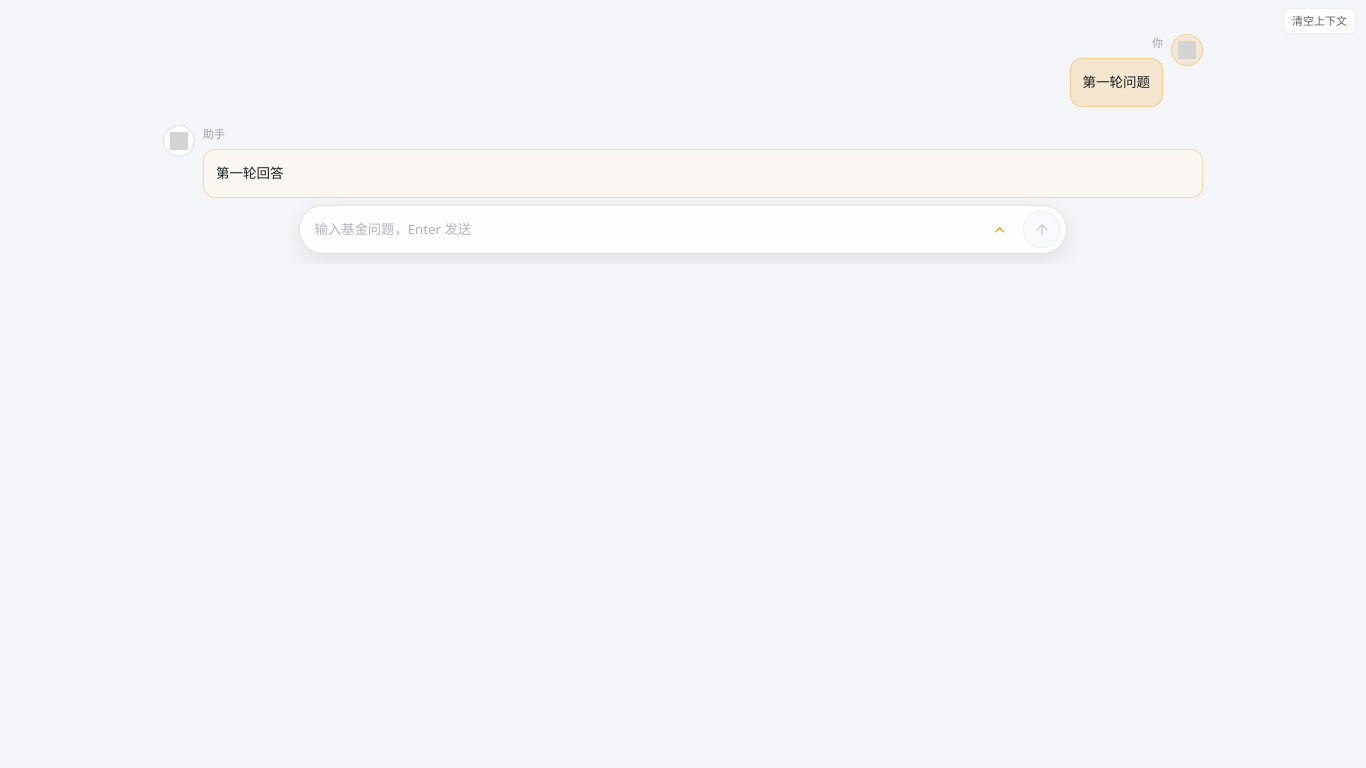
Test case: Investment assistant chat › clears persisted investment chat context from the message area
Click the button "清空上下文": (1320, 21) x1=1283 y1=8 x2=1356 y2=34
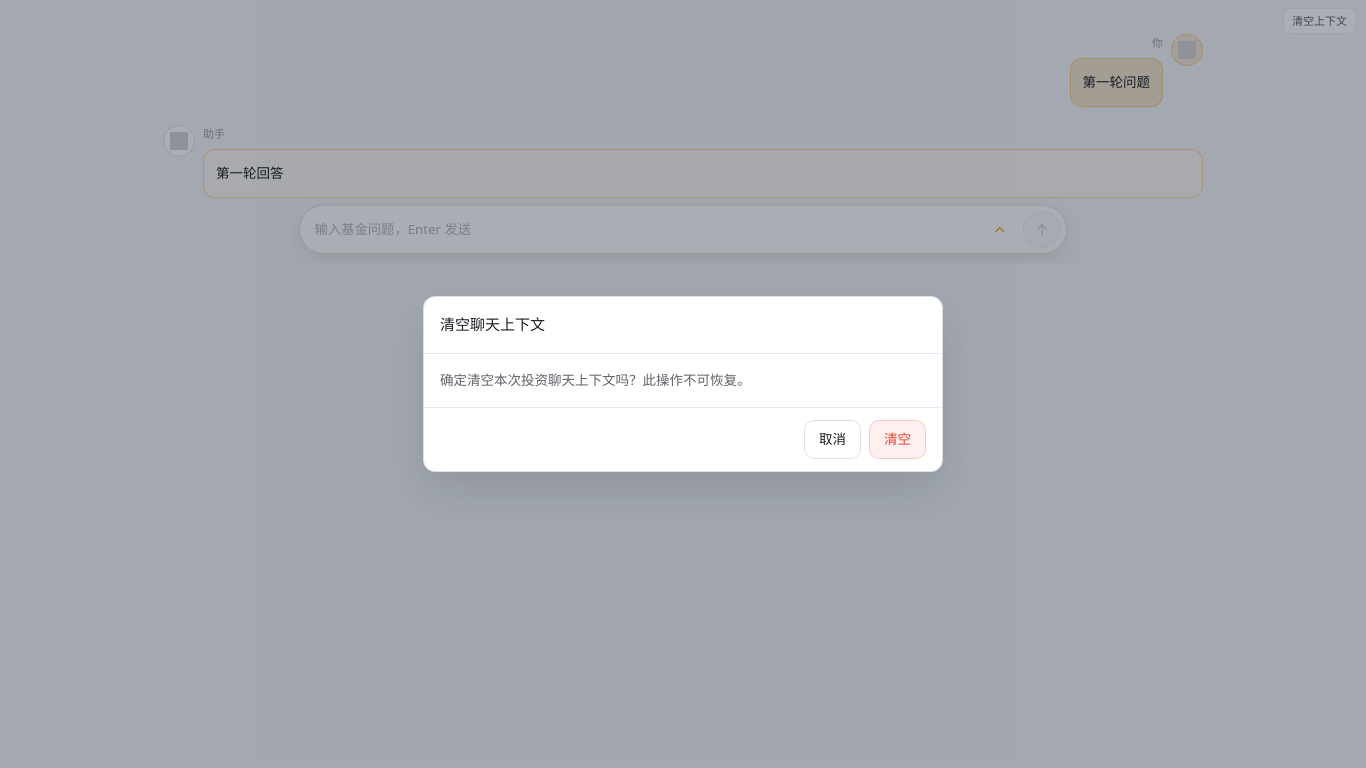
expect the dialog "清空聊天上下文" is shown: met, box x1=423 y1=296 x2=943 y2=472
Click the button "清空": (898, 439) x1=869 y1=420 x2=926 y2=458
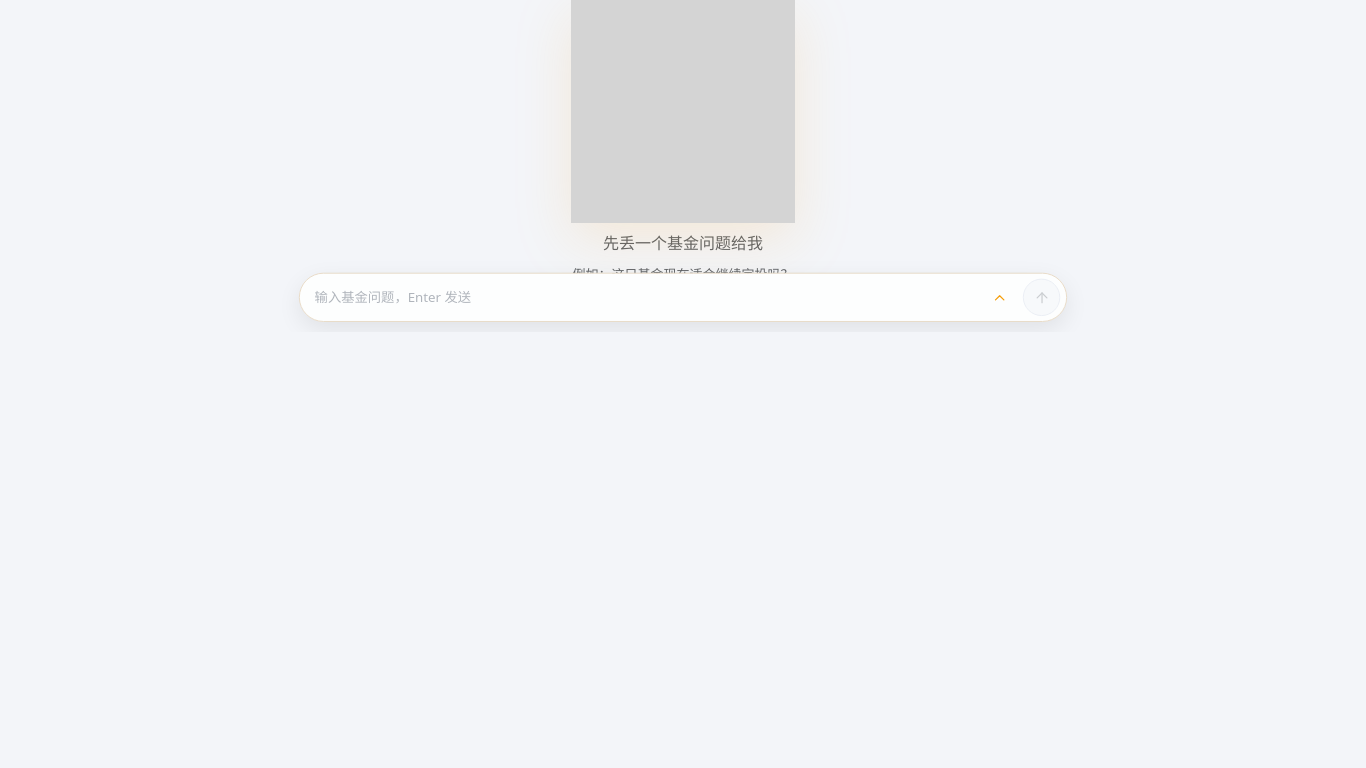
expect the text "第一轮问题" is gone: met
